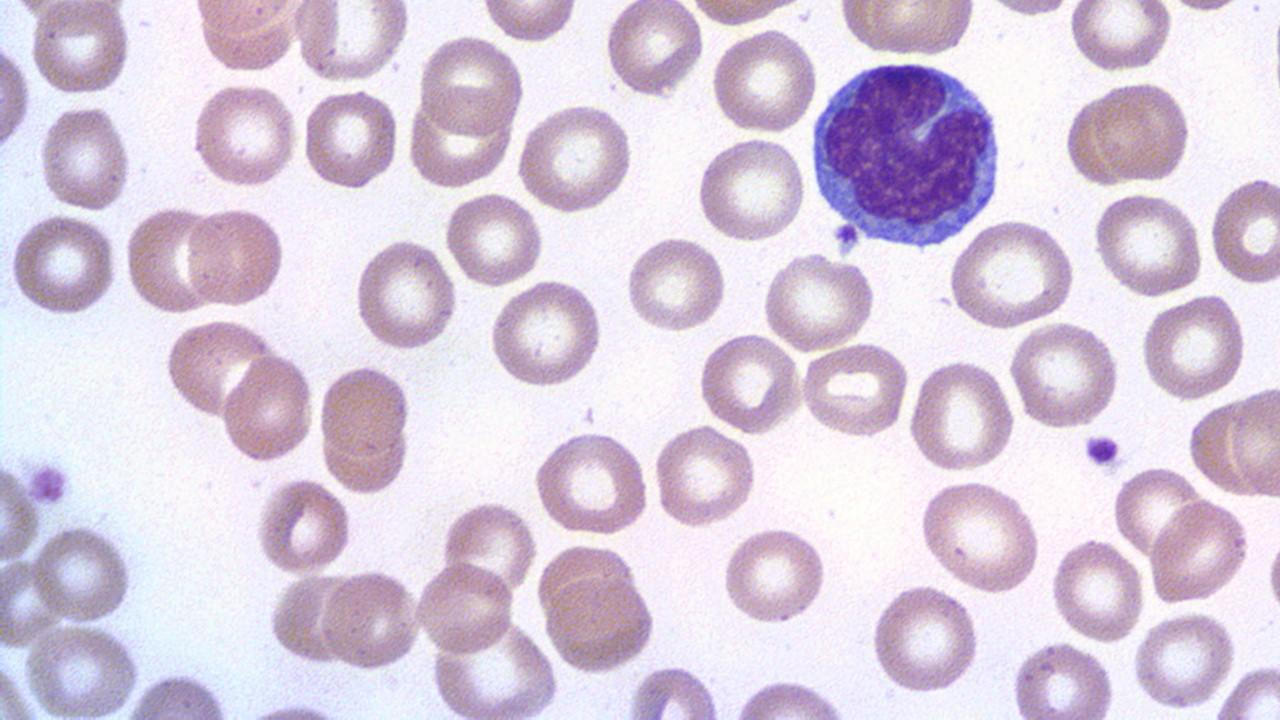Platelets: (22, 452, 75, 507), (1080, 431, 1124, 471)
RBC: (946, 215, 1077, 332), (916, 476, 1043, 594), (516, 100, 636, 214), (488, 276, 606, 391), (427, 618, 560, 720), (906, 355, 1018, 474), (869, 580, 983, 696), (532, 427, 650, 539), (350, 234, 461, 353), (694, 134, 808, 246), (1006, 320, 1122, 430), (188, 78, 300, 190), (1090, 190, 1206, 298), (162, 316, 280, 422), (759, 251, 880, 353), (1137, 291, 1249, 401), (8, 210, 121, 319), (710, 26, 820, 135), (22, 620, 145, 716), (540, 575, 658, 675), (695, 330, 805, 436), (719, 522, 831, 626), (651, 422, 760, 528), (797, 340, 912, 440), (1146, 496, 1250, 606), (416, 34, 526, 136), (318, 568, 423, 674), (183, 202, 287, 309), (1131, 608, 1239, 711), (219, 351, 317, 464), (35, 103, 136, 212), (622, 233, 730, 334), (30, 524, 138, 624), (124, 203, 219, 316), (1091, 79, 1193, 184), (300, 86, 400, 192), (437, 496, 539, 598), (252, 476, 355, 577), (1048, 538, 1146, 644), (410, 91, 519, 186), (440, 191, 546, 287), (27, 2, 135, 95), (415, 559, 517, 657), (603, 1, 704, 98), (315, 362, 414, 460), (294, 1, 411, 83), (1110, 462, 1206, 560), (1010, 638, 1121, 718), (266, 570, 355, 668), (836, 1, 978, 60), (1208, 173, 1280, 289), (191, 0, 304, 73), (1067, 1, 1175, 74), (1185, 396, 1259, 498), (1063, 91, 1129, 189), (1226, 385, 1280, 500), (626, 660, 723, 720), (0, 557, 62, 649), (730, 677, 856, 719), (0, 456, 44, 566), (480, 2, 580, 43), (1212, 659, 1280, 717), (0, 35, 31, 157), (686, 0, 807, 28), (1264, 518, 1280, 635)
WBC: (808, 51, 1010, 250)
